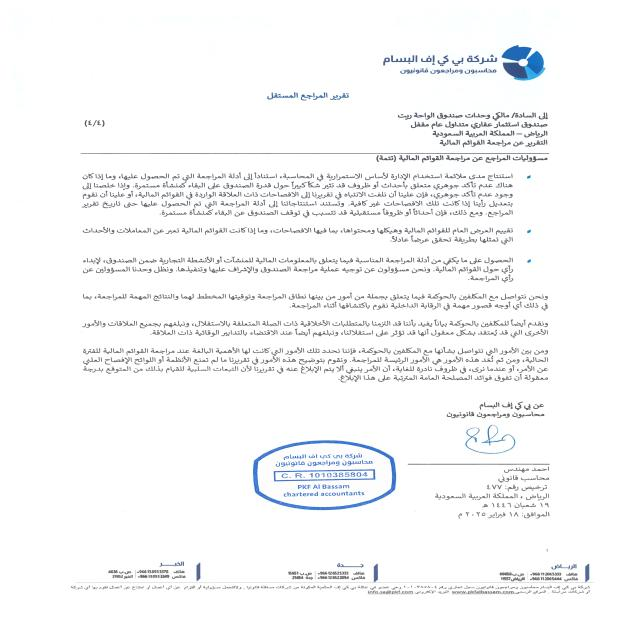auditor_report: (366, 152, 560, 170), (249, 83, 357, 107)
